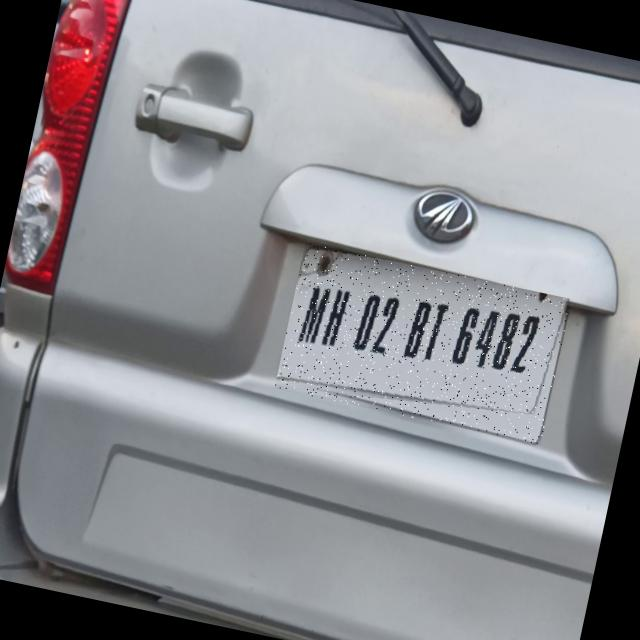Plate: (275, 244, 572, 446)
